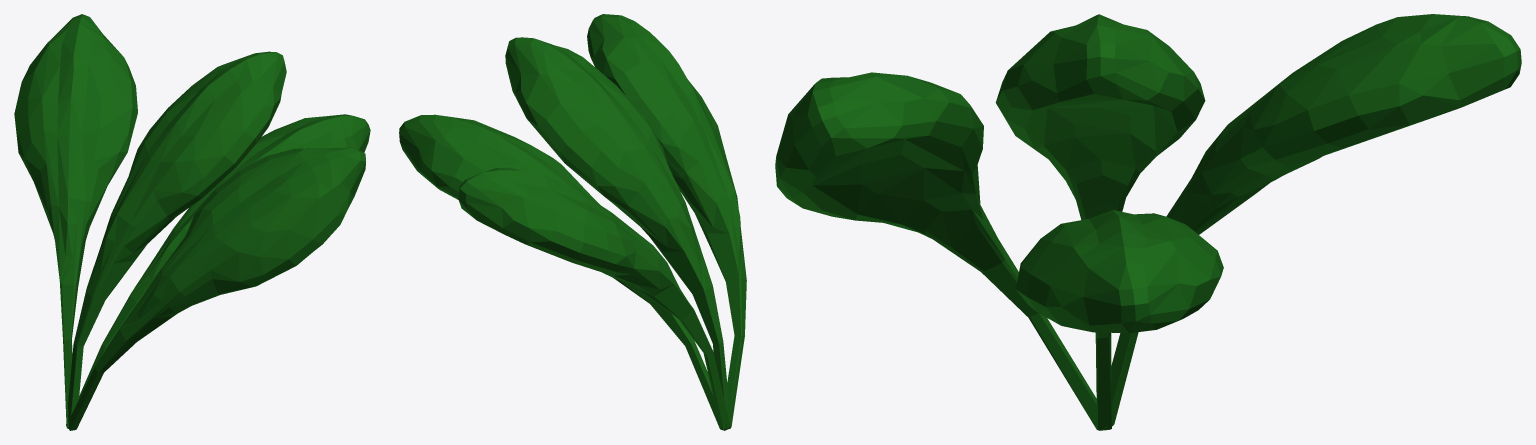
File: SnakeplantWMat.glb
3 renders of one model, left to right at view 1: azimuth 30°, elevation 25°; view 2: azimuth 150°, elevation 25°; view 3: azimuth 270°, elevation 25°, orthographic. The views are drawn at different scales.
Visible parts, largest first — view 1: snakeplant_group; view 2: snakeplant_group; view 3: snakeplant_group.
Boxes of the visible parts, x1,y1,x2,y2 form: snakeplant_group: [14, 14, 370, 430]; snakeplant_group: [399, 14, 746, 430]; snakeplant_group: [775, 14, 1521, 430].
Size of the model in its own units: 10.92 by 11.11 by 13.47.
